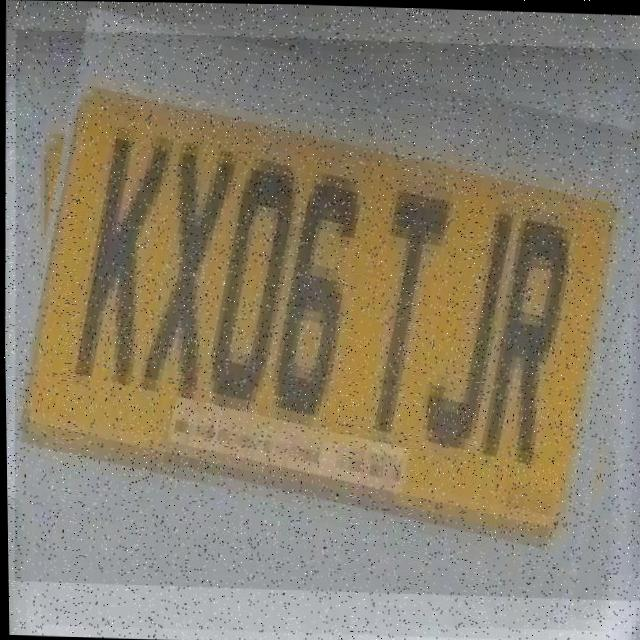LicensePlate: (5, 29, 640, 599)
